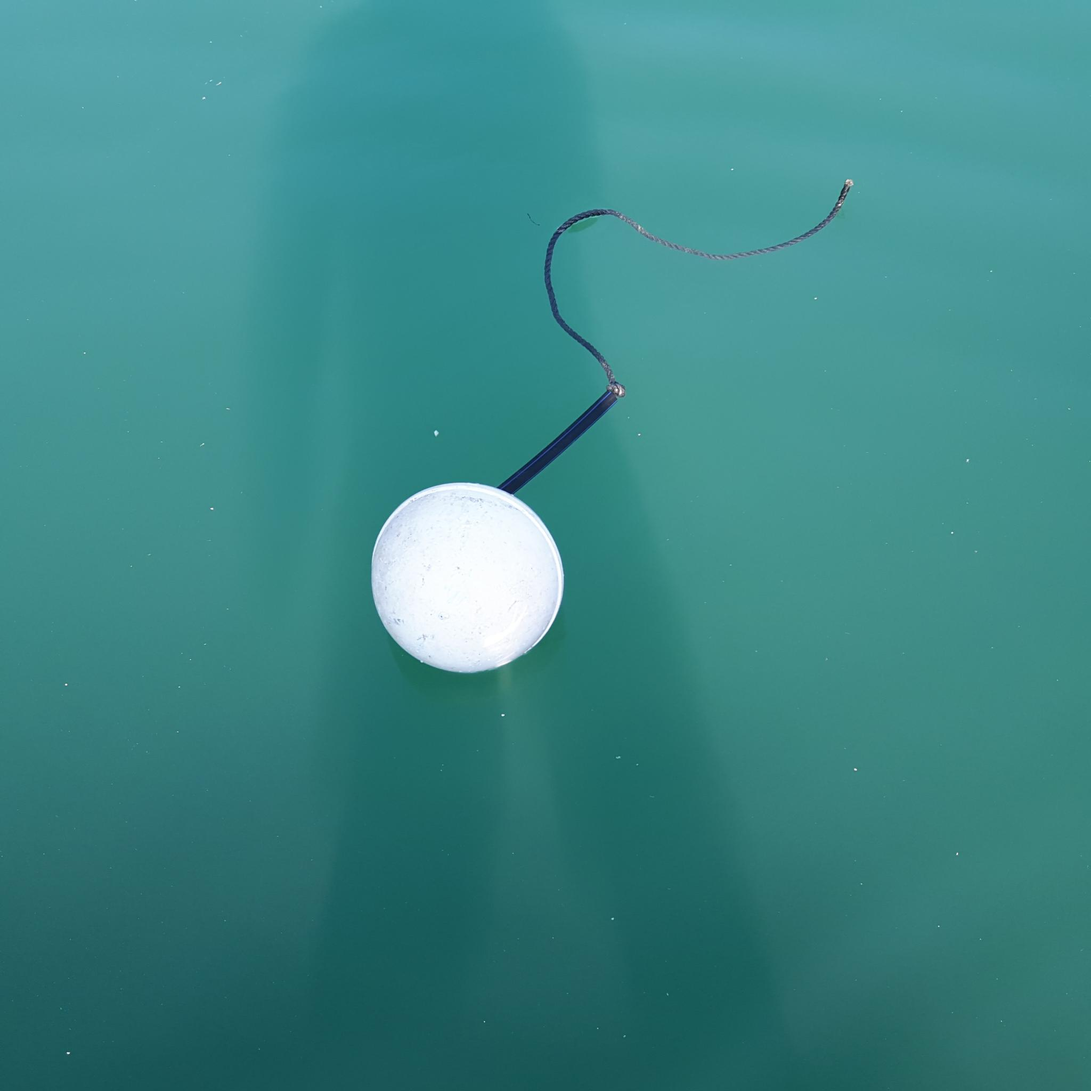sampah_terapung: (544, 178, 853, 398), (371, 483, 565, 673)
